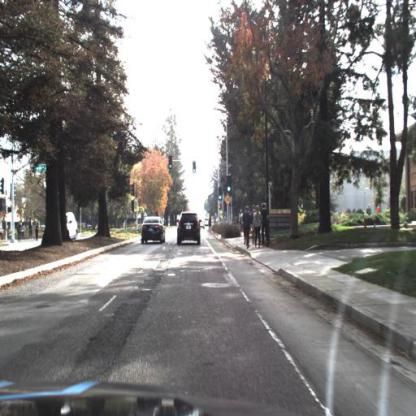car: (177, 211, 201, 247), (142, 215, 167, 249)
pedestrian: (262, 202, 270, 243), (244, 206, 251, 247), (255, 204, 261, 249), (265, 204, 271, 247), (255, 206, 261, 248), (252, 201, 257, 249), (246, 204, 252, 242)
trafficLight-Green: (219, 186, 224, 203), (219, 189, 224, 201), (229, 181, 233, 195), (170, 157, 174, 170), (228, 178, 231, 195), (194, 163, 198, 175), (194, 162, 197, 174)
